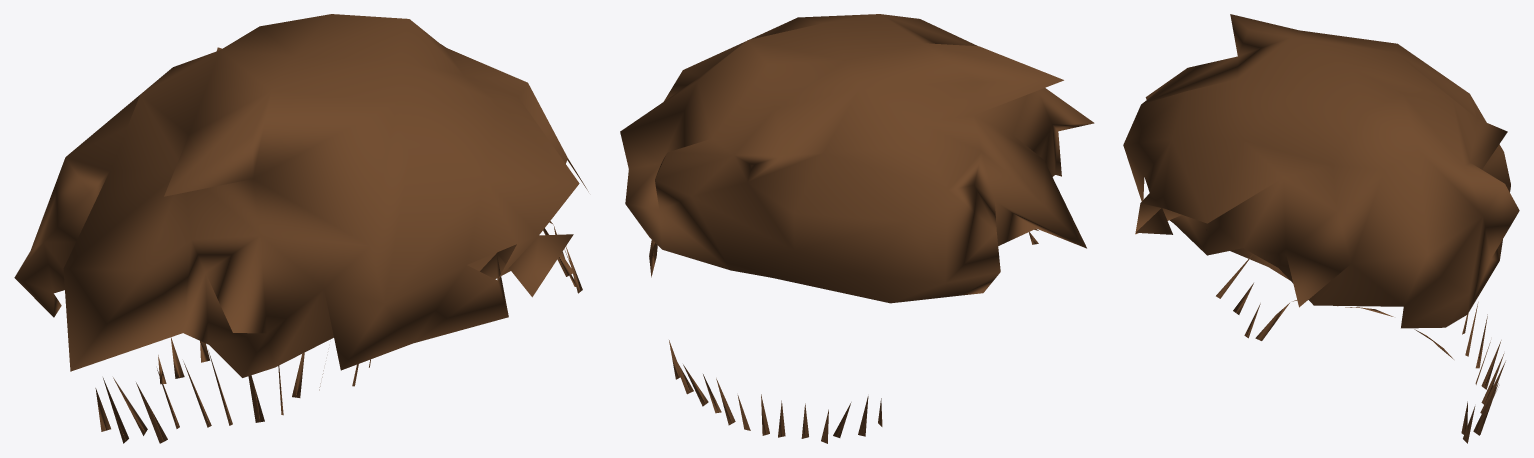
The model's file is short-fringe.glb.
The picture shows the model from 3 angles, left to right: view 1: azimuth 30°, elevation 25°; view 2: azimuth 150°, elevation 25°; view 3: azimuth 270°, elevation 25°; orthographic projection. The views are drawn at different scales.
Parts seen in each view (by area): view 1: Hair, HairPulledRootStrands; view 2: Hair, HairPulledRootStrands; view 3: Hair, HairPulledRootStrands.
Boxes of the visible parts, x1,y1,x2,y2 form: Hair: [14, 14, 588, 377]; HairPulledRootStrands: [95, 221, 582, 443]; Hair: [620, 14, 1094, 303]; HairPulledRootStrands: [649, 228, 1038, 443]; Hair: [1123, 14, 1519, 328]; HairPulledRootStrands: [1206, 229, 1505, 443].
Size of the model in its own units: 0.5366 by 0.4297 by 0.444.
